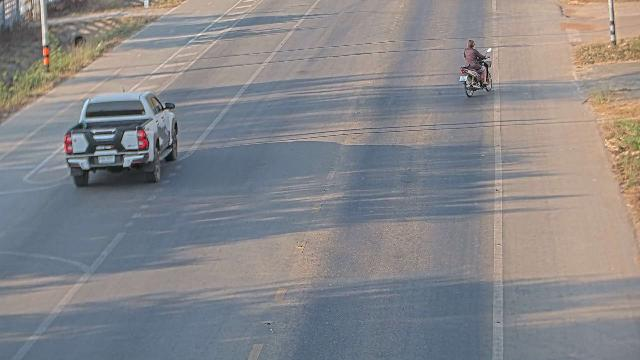motorcycle: (459, 52, 495, 100)
pickup-truck: (63, 89, 179, 187)
